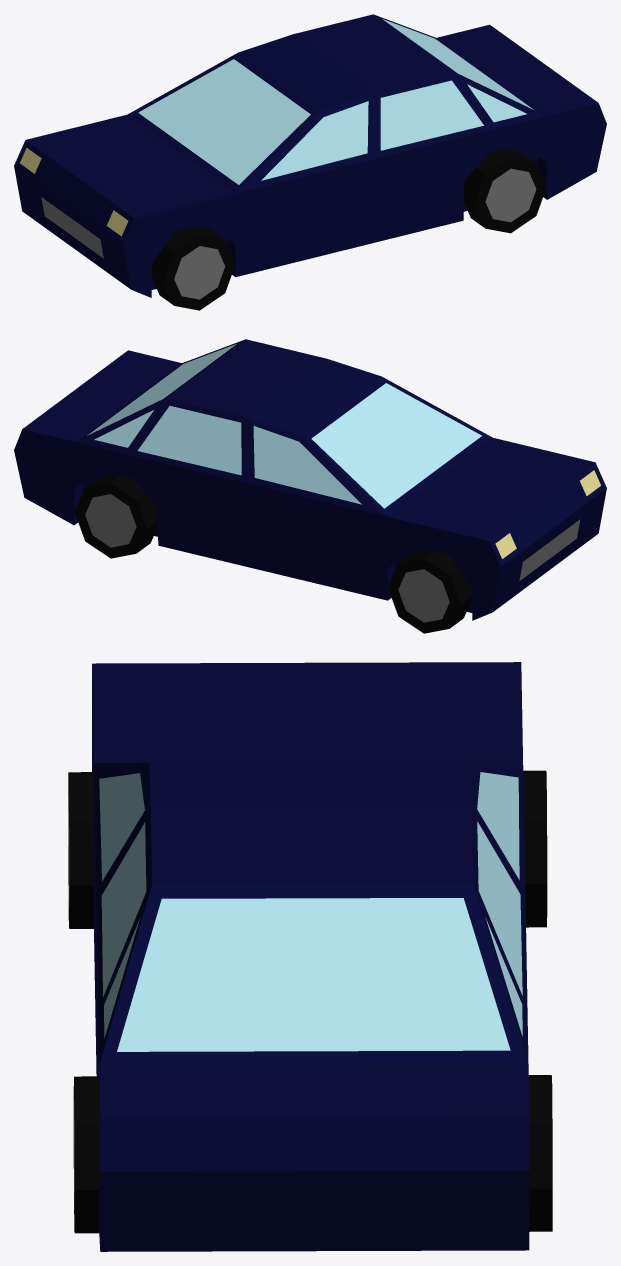
Rendered from Car.glb.
3 renders of one model, top to bottom at view 1: azimuth 30°, elevation 25°; view 2: azimuth 150°, elevation 25°; view 3: azimuth 270°, elevation 25°, orthographic. The views are drawn at different scales.
Parts seen in each view (by area): view 1: Car; view 2: Car; view 3: Car.
Part boxes in pixels (left/top/right/bottom): Car: left=14, top=14, right=606, bottom=310; Car: left=14, top=339, right=606, bottom=633; Car: left=68, top=662, right=552, bottom=1251.
Size of the model in its own units: 4.71 by 1.43 by 2.03.
